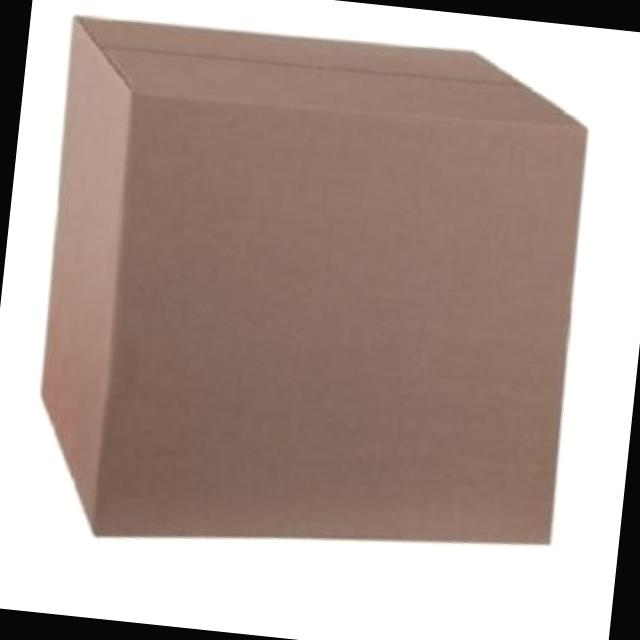box: (0, 0, 636, 600)
